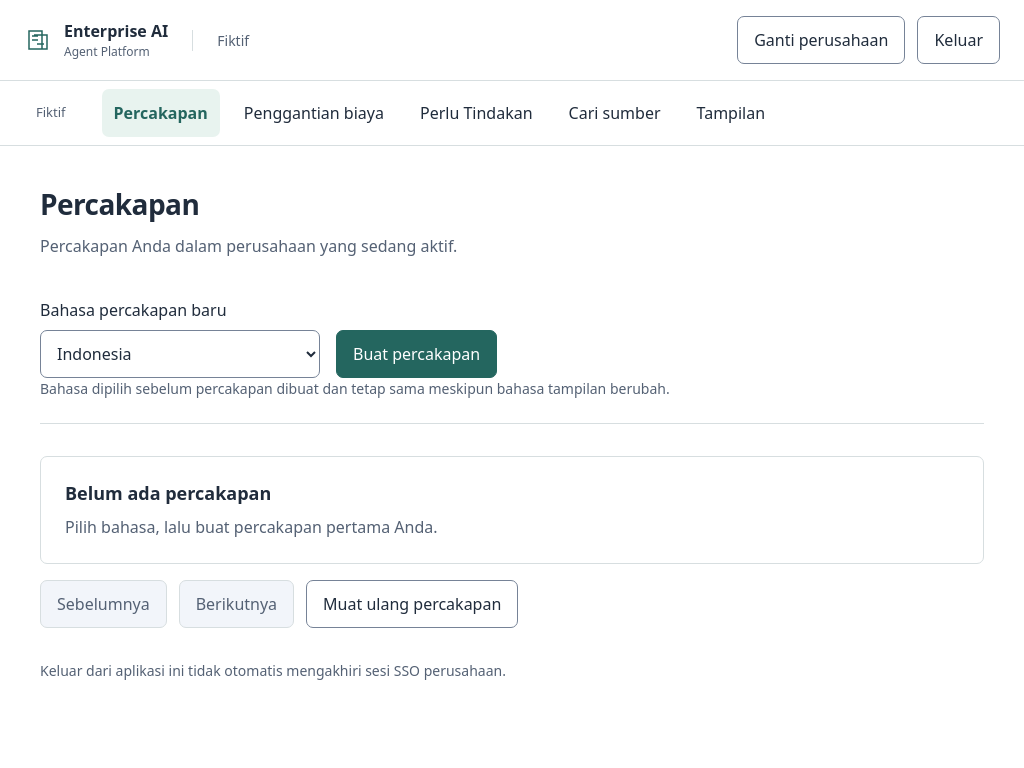
Scenario: opens the committed conversation without a discard dialog after an explicit nondefault language choice
This screenshot has width=1024, height=768.
Select "English" in the dropdown labelled "Bahasa percakapan baru". click: (180, 354)
box: [40,330,320,378]
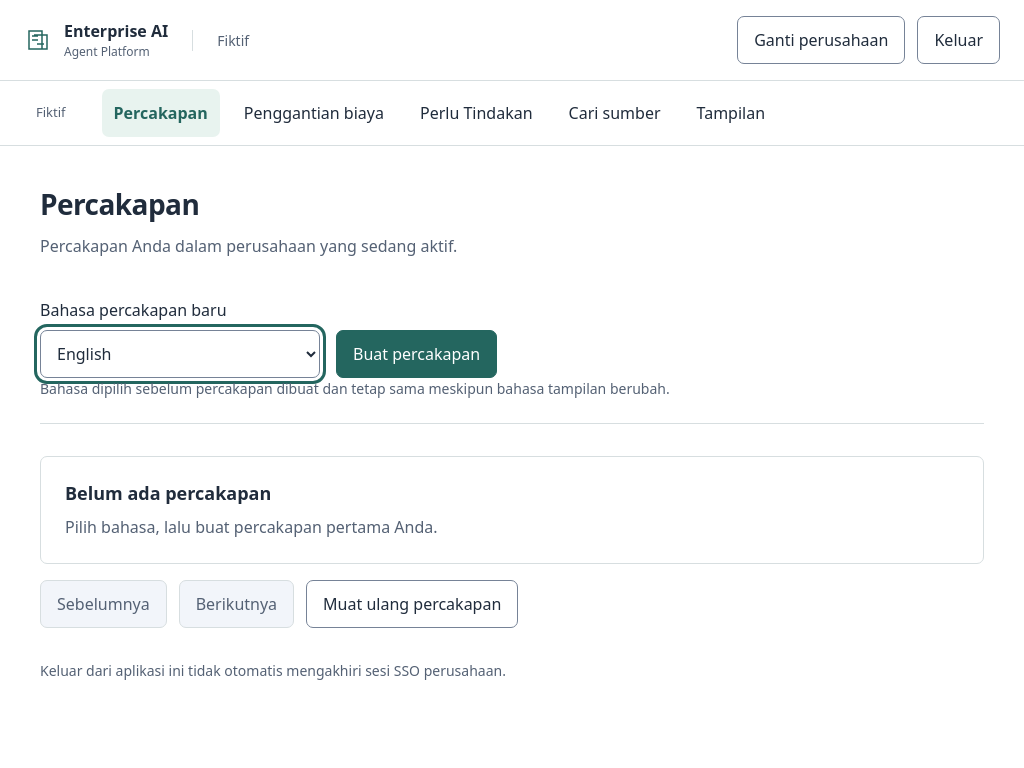
Click the button "Buat percakapan". click: click(417, 354)
box: [336,330,497,378]
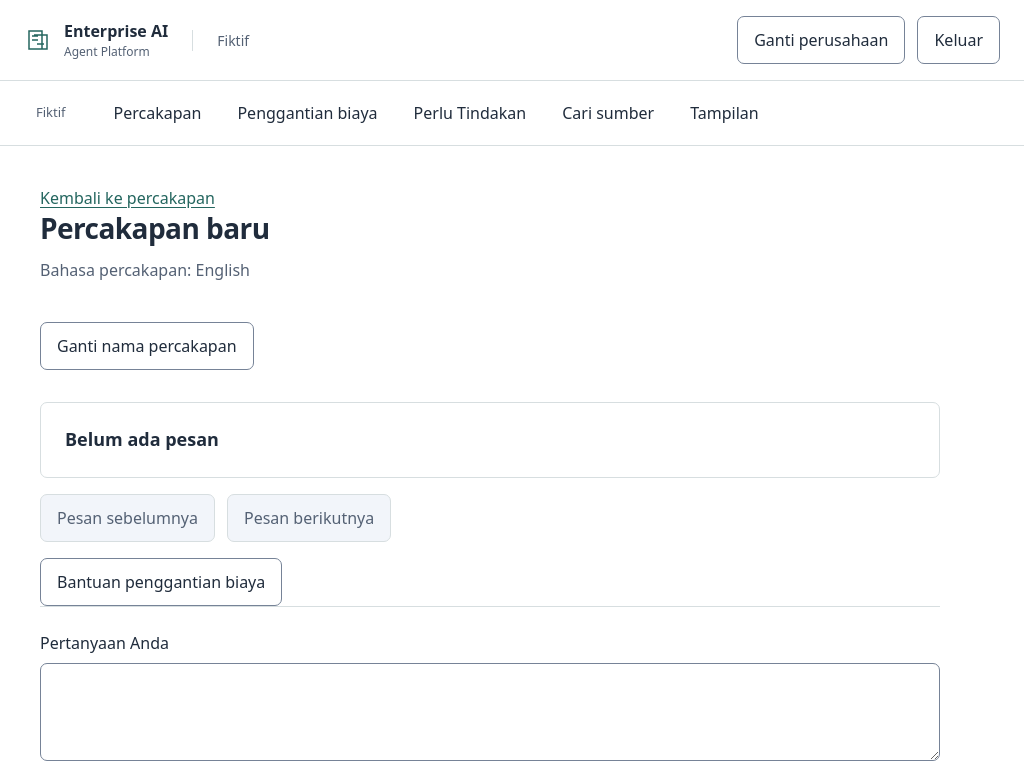
Expected: the heading "Percakapan baru" is shown, [40,209,270,247]
Result: the text "Bahasa percakapan: English" is shown at [40,259,250,281]
